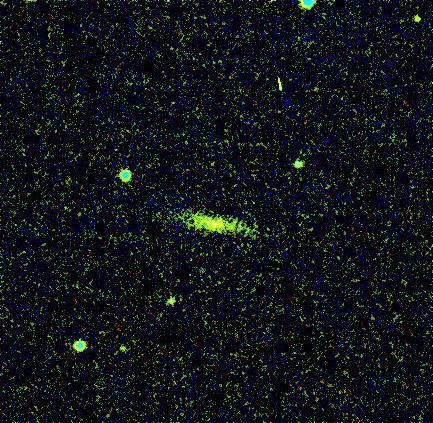star: (154, 285, 184, 315)
